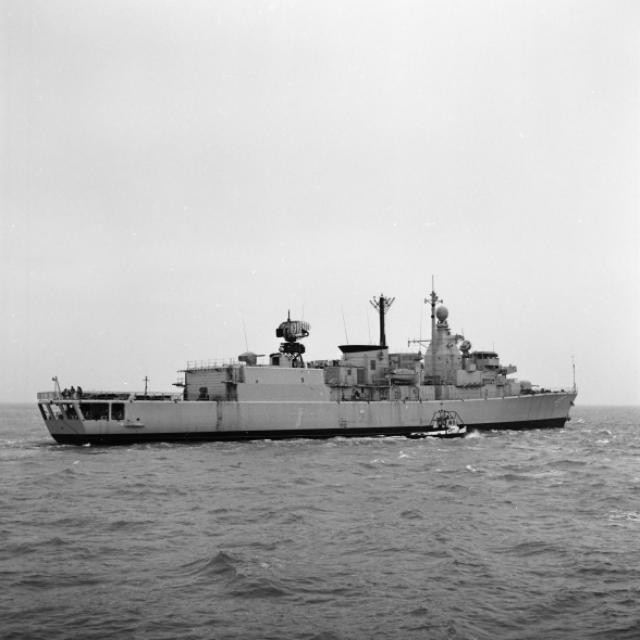Fragata: (36, 276, 584, 451)
